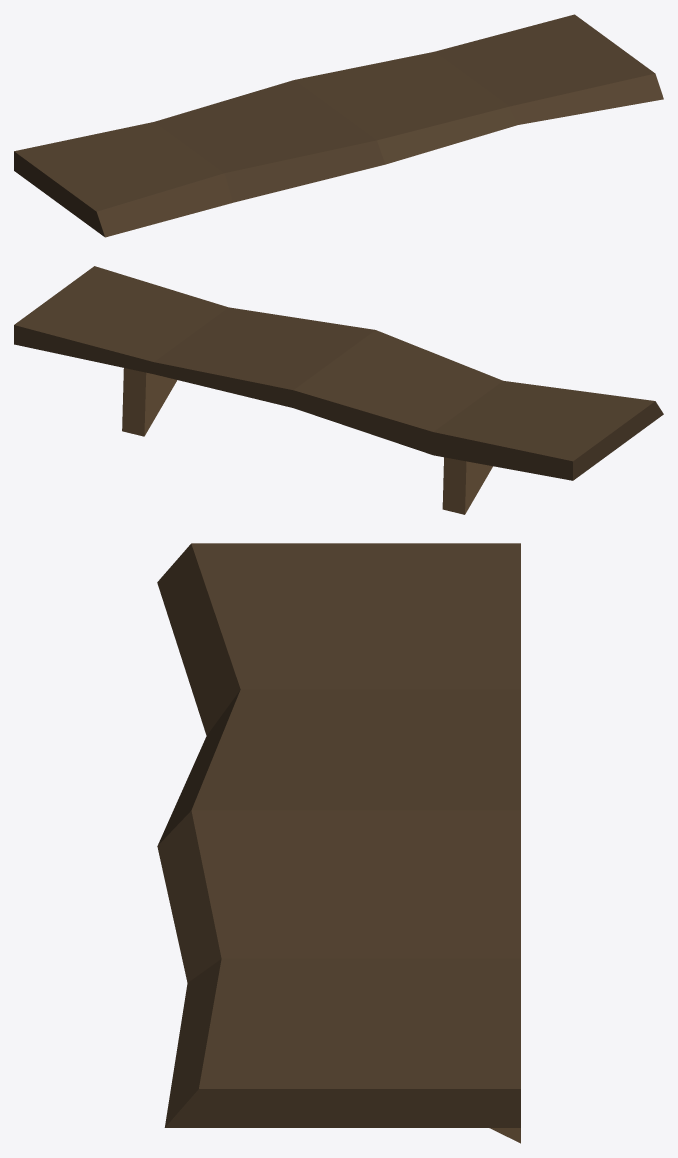
The model's file is Shelf_1_Brown.fbx.
3 views of the same model, one above another, from view 1: azimuth 30°, elevation 25°; view 2: azimuth 150°, elevation 25°; view 3: azimuth 270°, elevation 25° (orthographic). The views are drawn at different scales.
Visible parts, largest first — view 1: Shelf_1_Brown_Part_1; view 2: Shelf_1_Brown_Part_1, Shelf_1_Brown_Part_2; view 3: Shelf_1_Brown_Part_1.
Part boxes in pixels (x1=…): Shelf_1_Brown_Part_1: x1=14, y1=14, x2=663, y2=237; Shelf_1_Brown_Part_1: x1=14, y1=266, x2=663, y2=480; Shelf_1_Brown_Part_2: x1=122, y1=368, x2=492, y2=514; Shelf_1_Brown_Part_1: x1=157, y1=543, x2=520, y2=1127.
Bounding box in the file's own units: 150 × 21.24 × 42.25.
